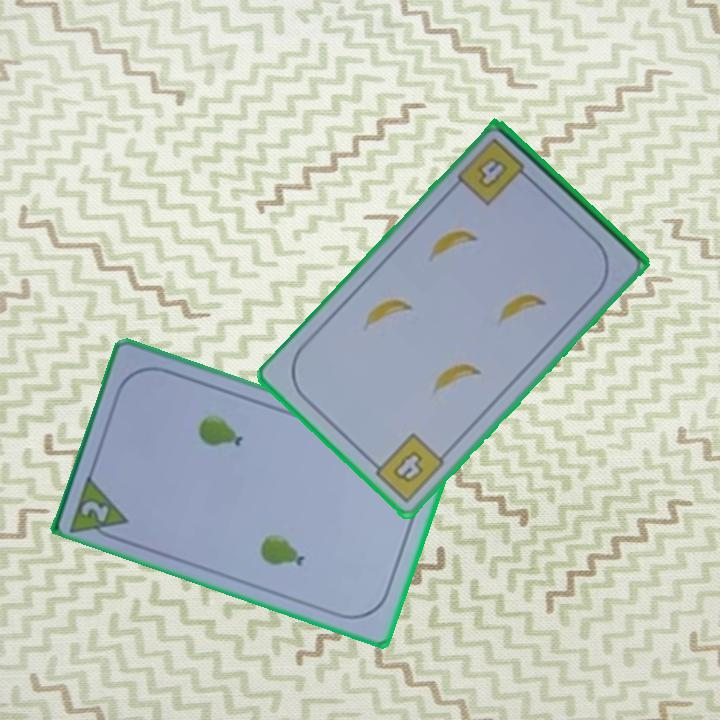2p: (77, 496, 112, 525)
4b: (365, 429, 448, 506), (453, 135, 536, 209)
